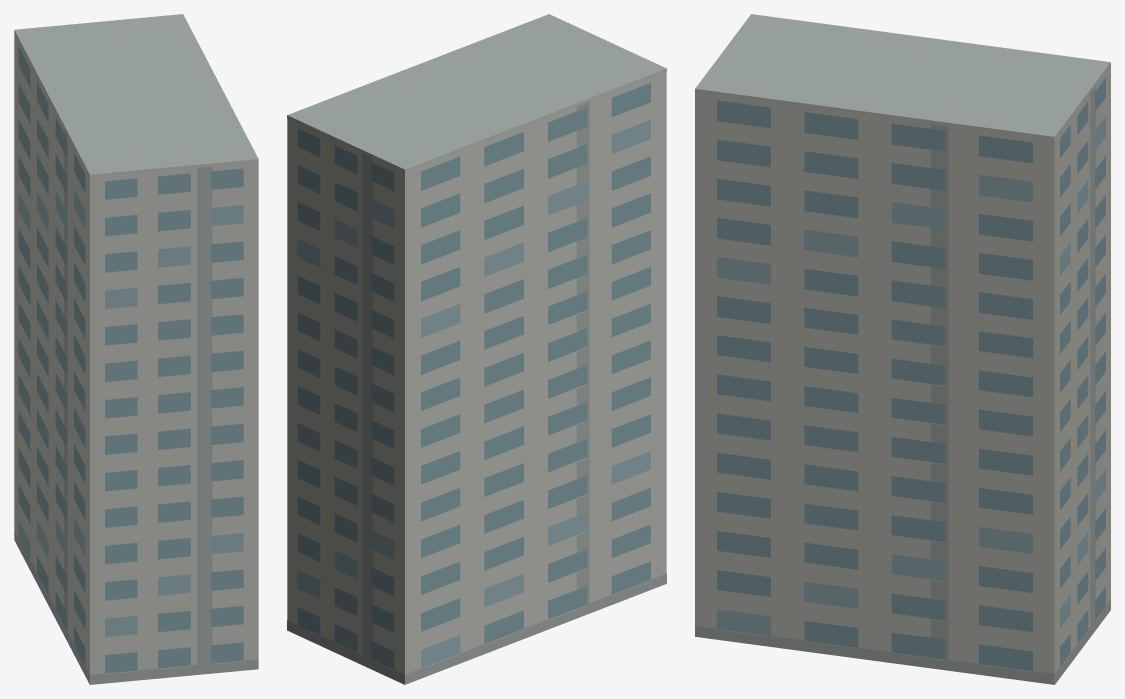
Rendered from residential-7d212c64-7576-496c-b832-d72548035a77.glb.
The picture shows the model from 3 angles, left to right: view 1: azimuth 30°, elevation 25°; view 2: azimuth 150°, elevation 25°; view 3: azimuth 270°, elevation 25°; orthographic projection. The views are drawn at different scales.
Visible parts, largest first — view 1: residential-7d212c64-7576-496c-b832-d72548035a77.tmp; view 2: residential-7d212c64-7576-496c-b832-d72548035a77.tmp; view 3: residential-7d212c64-7576-496c-b832-d72548035a77.tmp.
Part boxes in pixels (left/top/right/bottom): residential-7d212c64-7576-496c-b832-d72548035a77.tmp: left=14, top=14, right=258, bottom=684; residential-7d212c64-7576-496c-b832-d72548035a77.tmp: left=287, top=14, right=666, bottom=684; residential-7d212c64-7576-496c-b832-d72548035a77.tmp: left=695, top=14, right=1110, bottom=684.
Bounding box in the file's own units: 18.77 × 39 × 26.83.
